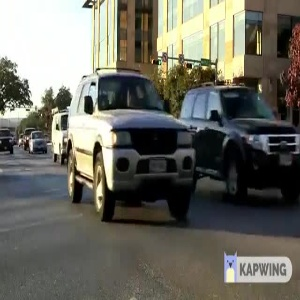suv: (73, 63, 199, 223), (172, 81, 297, 213)
